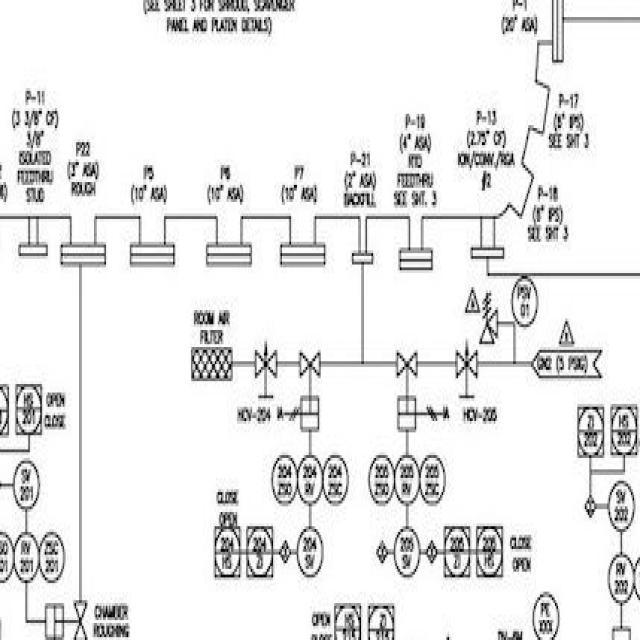Needle Valve: (243, 332, 290, 385), (448, 335, 476, 382)
PSV: (477, 282, 504, 360)
Rotary Piston-Pneumatic Gate Valve: (394, 347, 426, 445), (295, 352, 324, 435), (42, 587, 86, 640)
